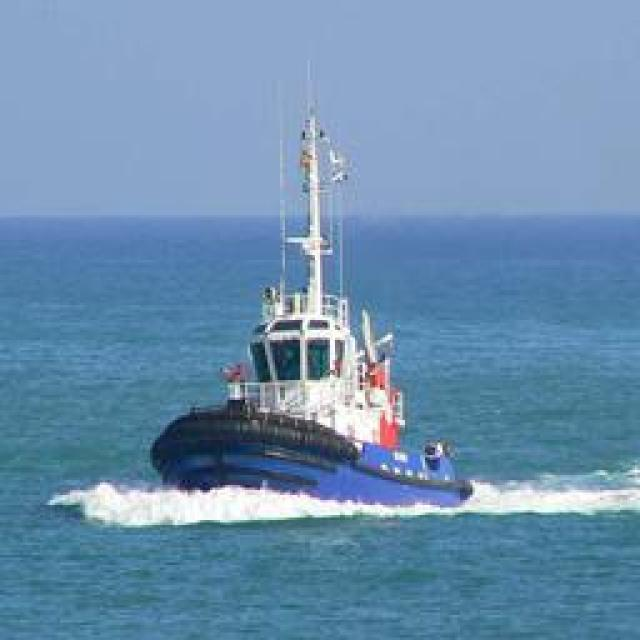CIV_Ship: (145, 47, 465, 515)
